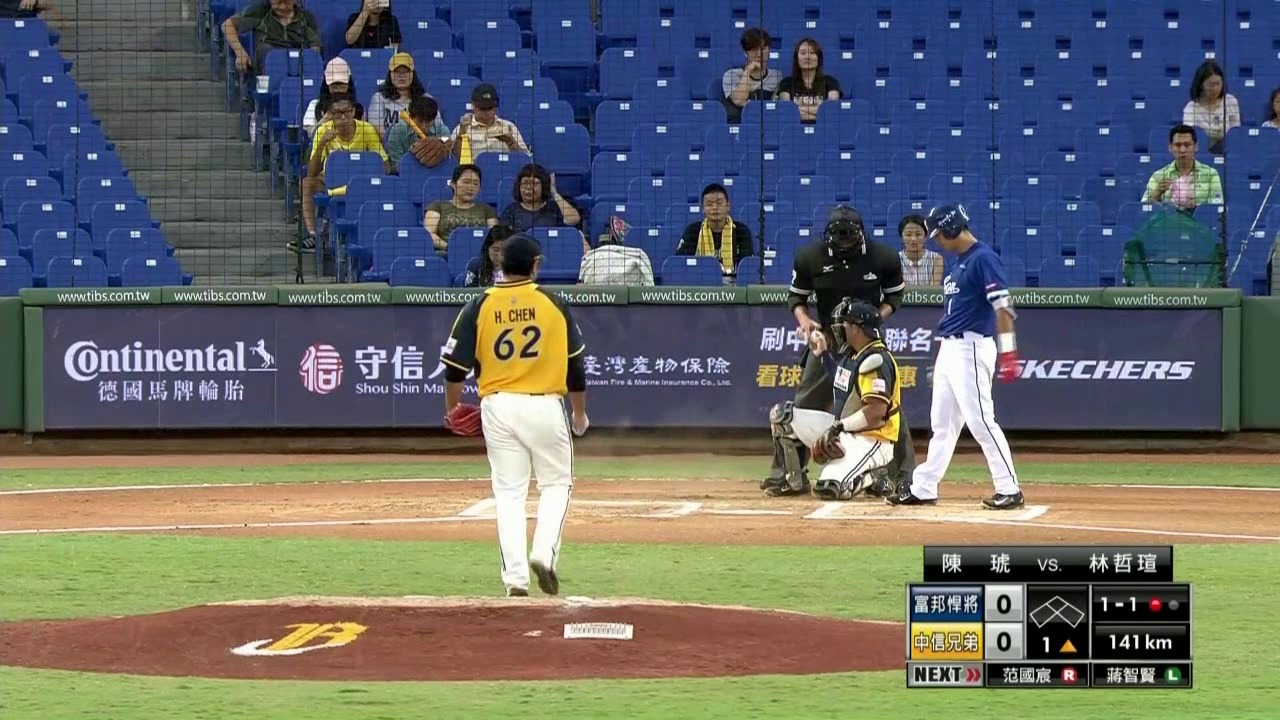ball: (812, 332, 821, 341)
base: (1026, 586, 1088, 632)
out: (1145, 592, 1183, 614)
score1: (987, 592, 1022, 619)
score2: (986, 621, 1018, 656)
session: (1028, 631, 1087, 658)
speed: (1097, 631, 1186, 654)
strikeball: (1093, 587, 1142, 621)
